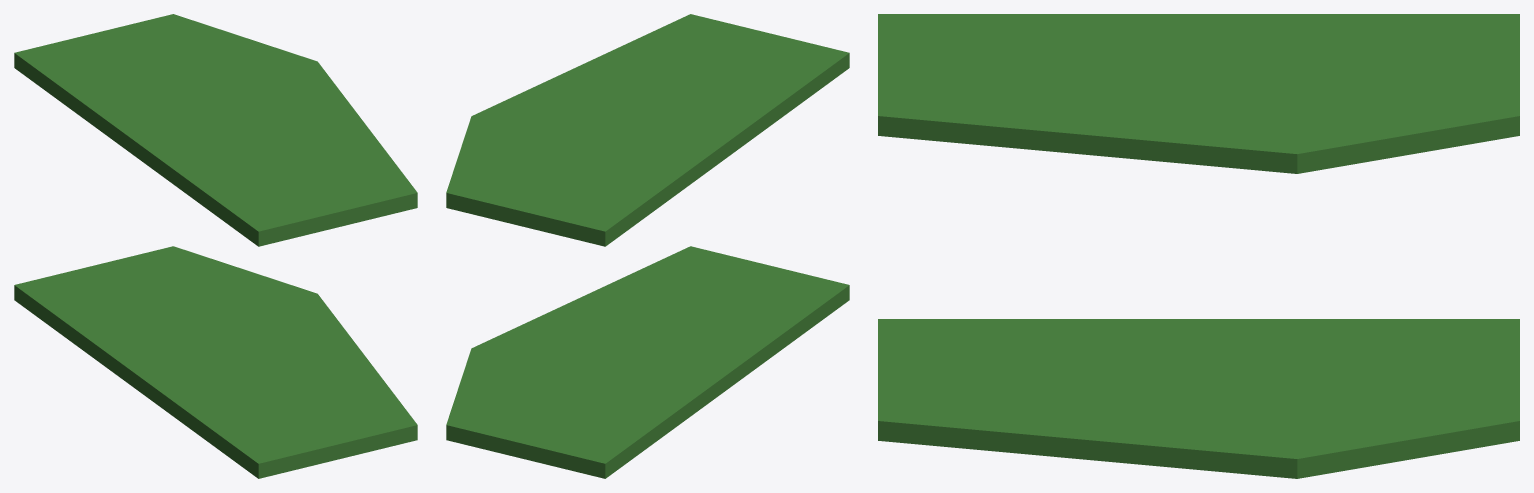
File: Office_Shelfs.fbx
3 views of the same model, side by side, from view 1: azimuth 30°, elevation 25°; view 2: azimuth 150°, elevation 25°; view 3: azimuth 270°, elevation 25° (orthographic). The views are drawn at different scales.
Visible parts, largest first — view 1: Office_Shelfs; view 2: Office_Shelfs; view 3: Office_Shelfs.
Boxes of the visible parts, x1,y1,x2,y2 form: Office_Shelfs: (14,14,417,478); Office_Shelfs: (446,14,849,478); Office_Shelfs: (878,14,1519,478).
Bounding box in the file's own units: 71.38 × 77.12 × 138.
